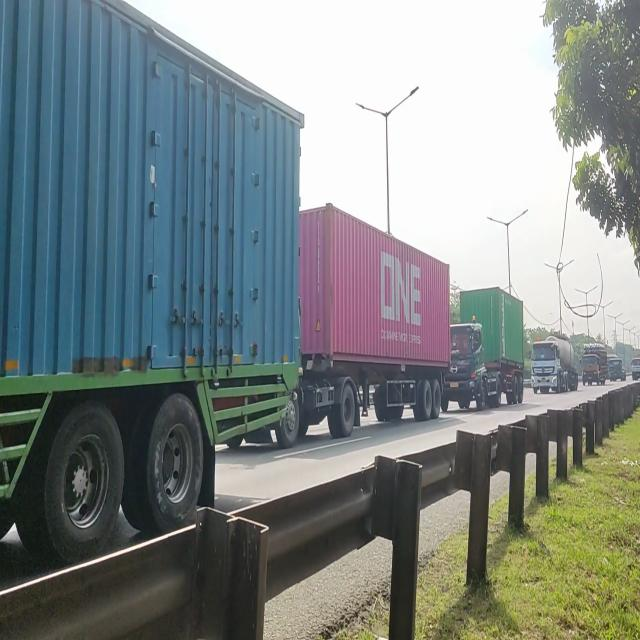Golongan IV: (449, 299, 526, 414)
